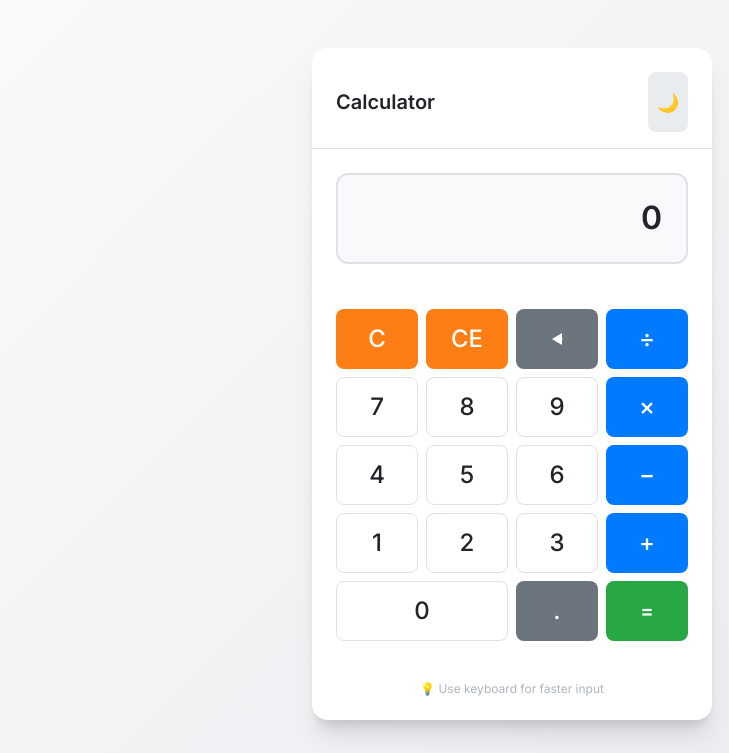
Calculator Integration Tests › performs multiplication correctly
Step 1. Click the button named "Seven" → click(377, 407), box [336,377,418,437]
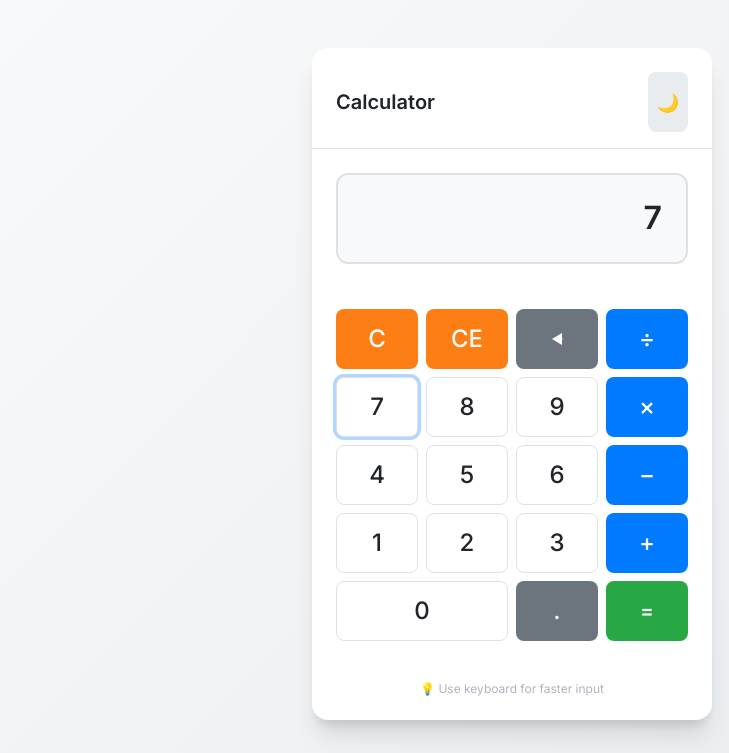
Step 2. Click the button named "Multiply" → click(647, 407), box [606,377,688,437]
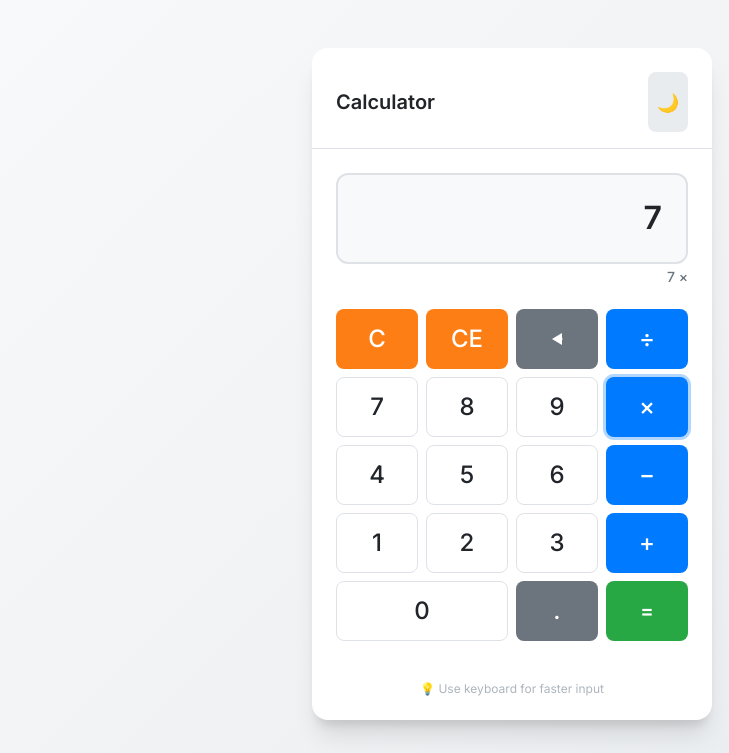
Step 3. Click the button named "Eight" → click(467, 407), box [426,377,508,437]
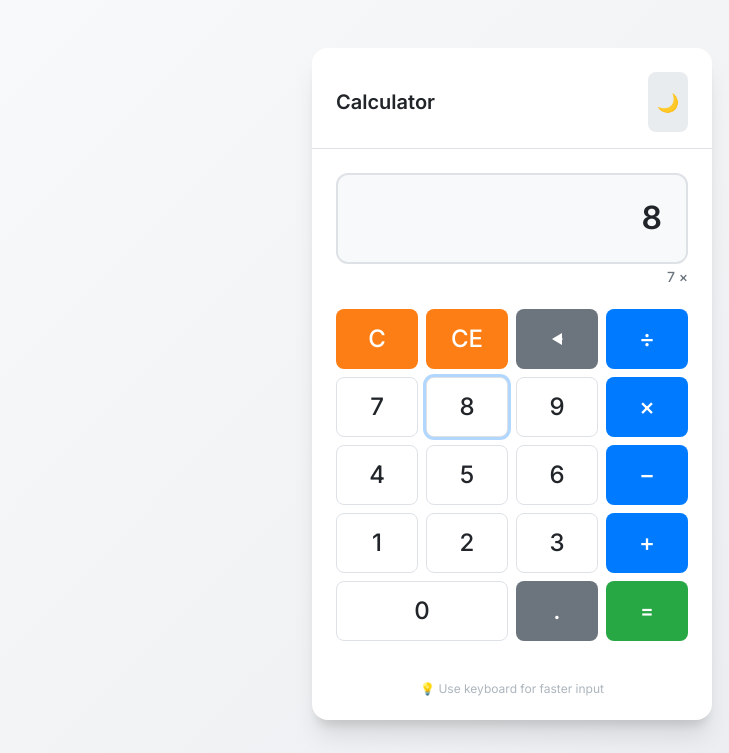
Step 4. Click the button named "Equals" → click(647, 611), box [606,581,688,641]
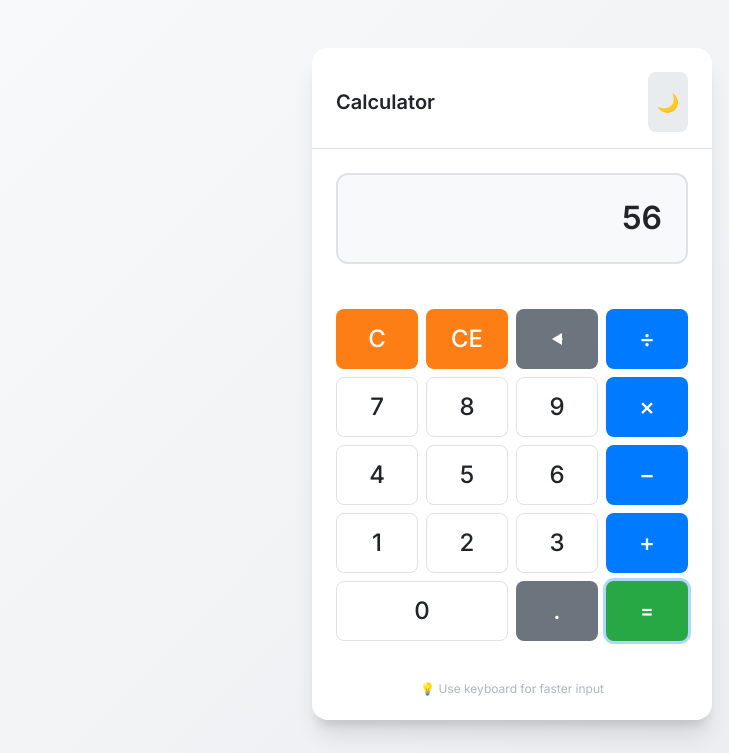
Result: the field reads "56" at [622,198,662,237]
